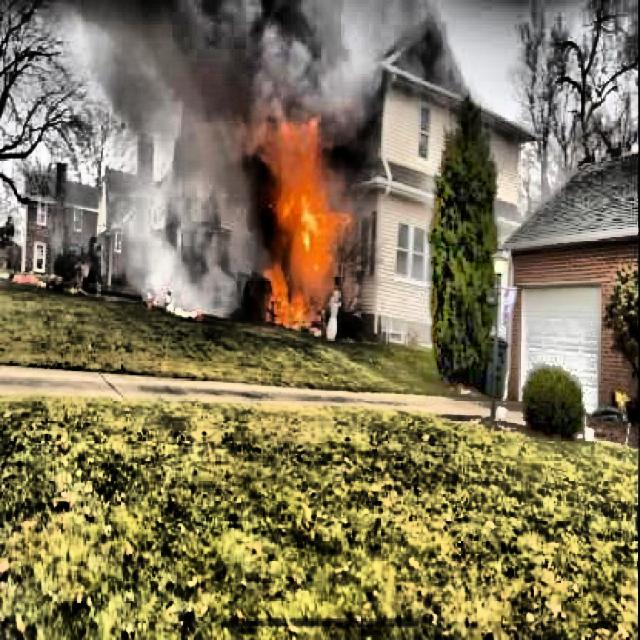Fire: (262, 116, 342, 332)
